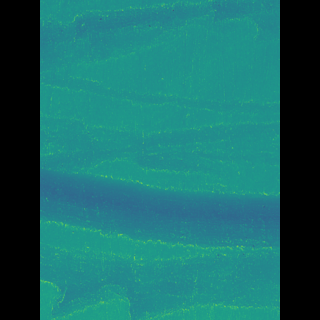Loch: (69, 123, 250, 252), (70, 243, 249, 320), (70, 0, 237, 65), (71, 70, 248, 115)
